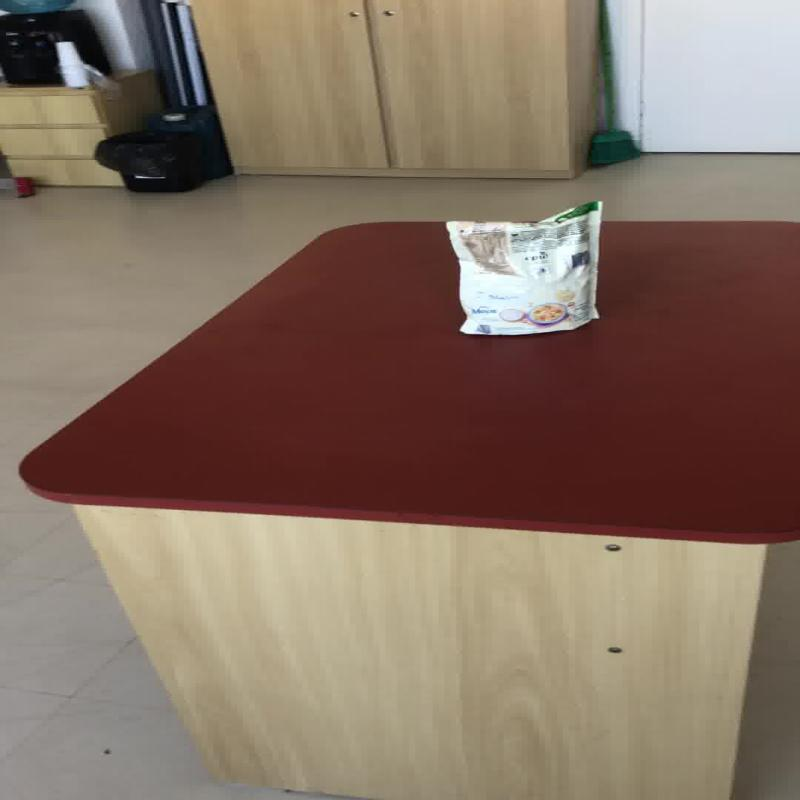corn flakes: (443, 198, 603, 336)
